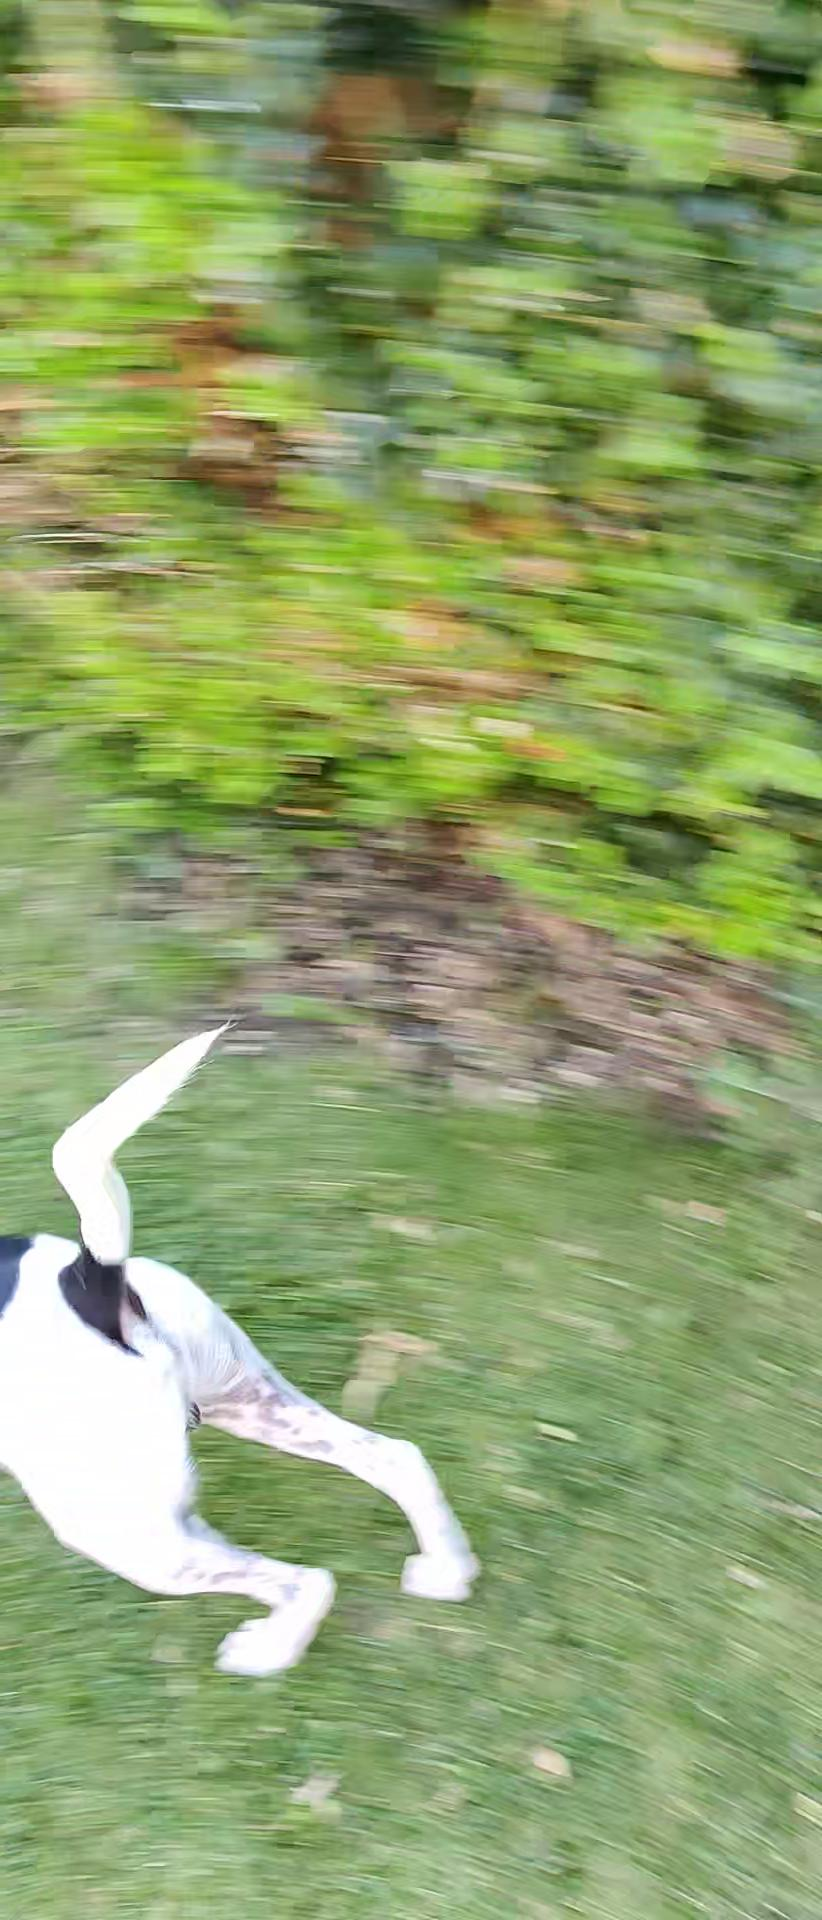Dog: (0, 980, 539, 1731)
